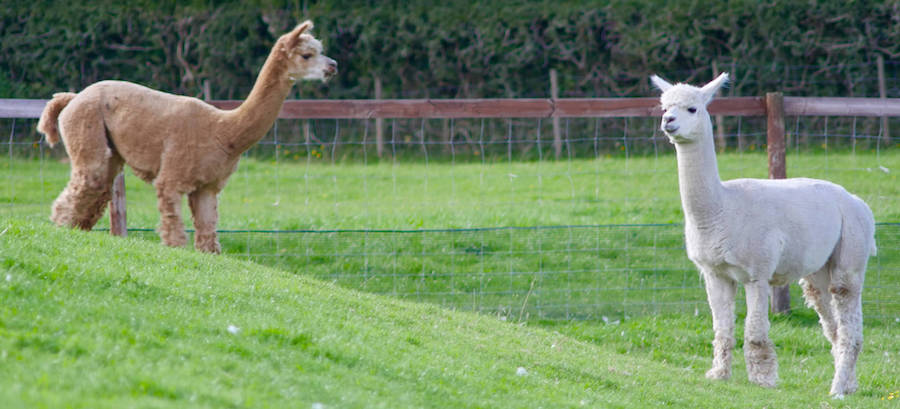alpaca: (648, 72, 878, 396), (37, 20, 338, 255)
